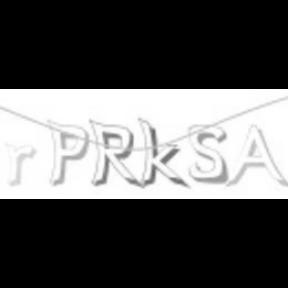A: (226, 120, 288, 188)
P: (46, 117, 90, 189)
R: (88, 118, 142, 188)
S: (186, 124, 230, 186)
k: (138, 112, 186, 188)
r: (0, 142, 38, 190)
